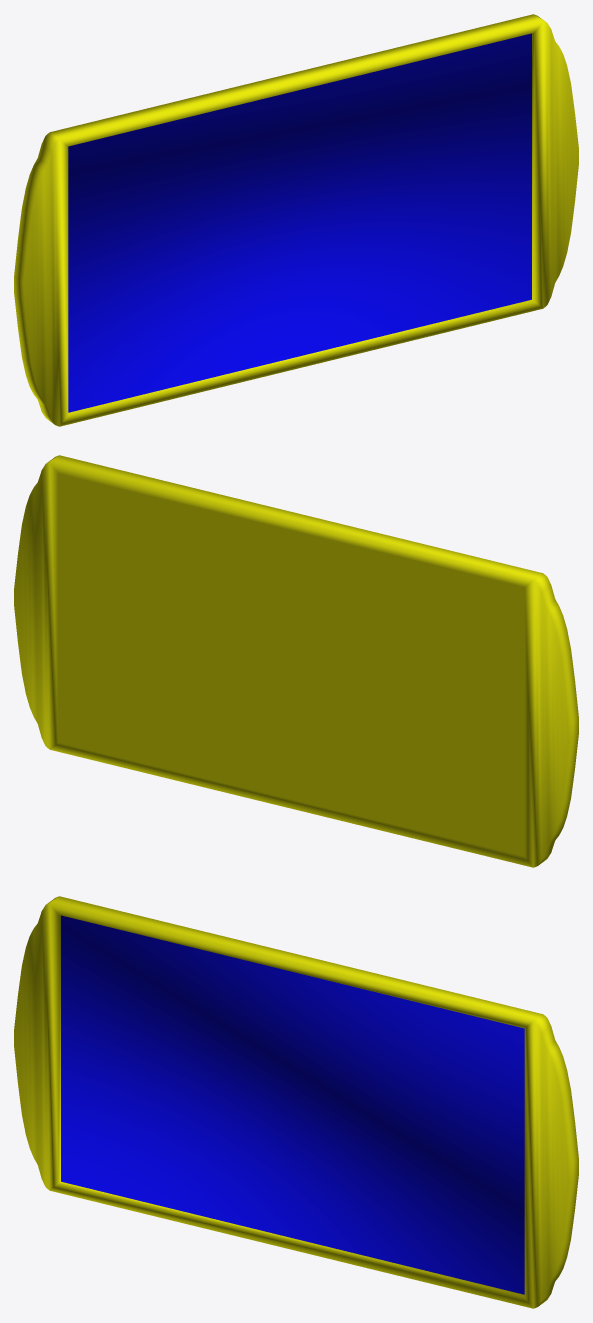
The model's file is panit_uvready_lowpol.fbx.
The picture shows the model from 3 angles, top to bottom: view 1: azimuth 30°, elevation 25°; view 2: azimuth 150°, elevation 25°; view 3: azimuth 330°, elevation 25°; orthographic projection.
Visible parts, largest first — view 1: paint_nouv_lowpoly:Box001; view 2: paint_nouv_lowpoly:Box001; view 3: paint_nouv_lowpoly:Box001.
Boxes of the visible parts, bbox=[...] form: paint_nouv_lowpoly:Box001: bbox=[14, 14, 578, 426]; paint_nouv_lowpoly:Box001: bbox=[14, 455, 578, 867]; paint_nouv_lowpoly:Box001: bbox=[14, 896, 578, 1308].
Size of the model in its own units: 218 by 108 by 6.72.
